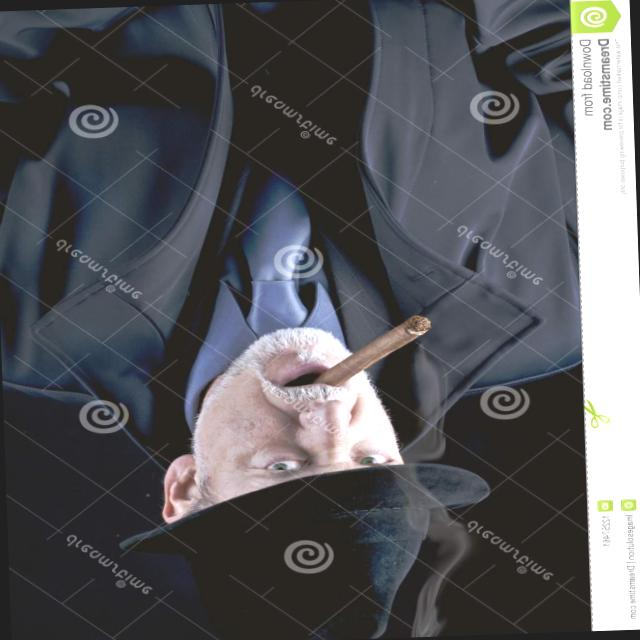smoke: (298, 304, 456, 392)
